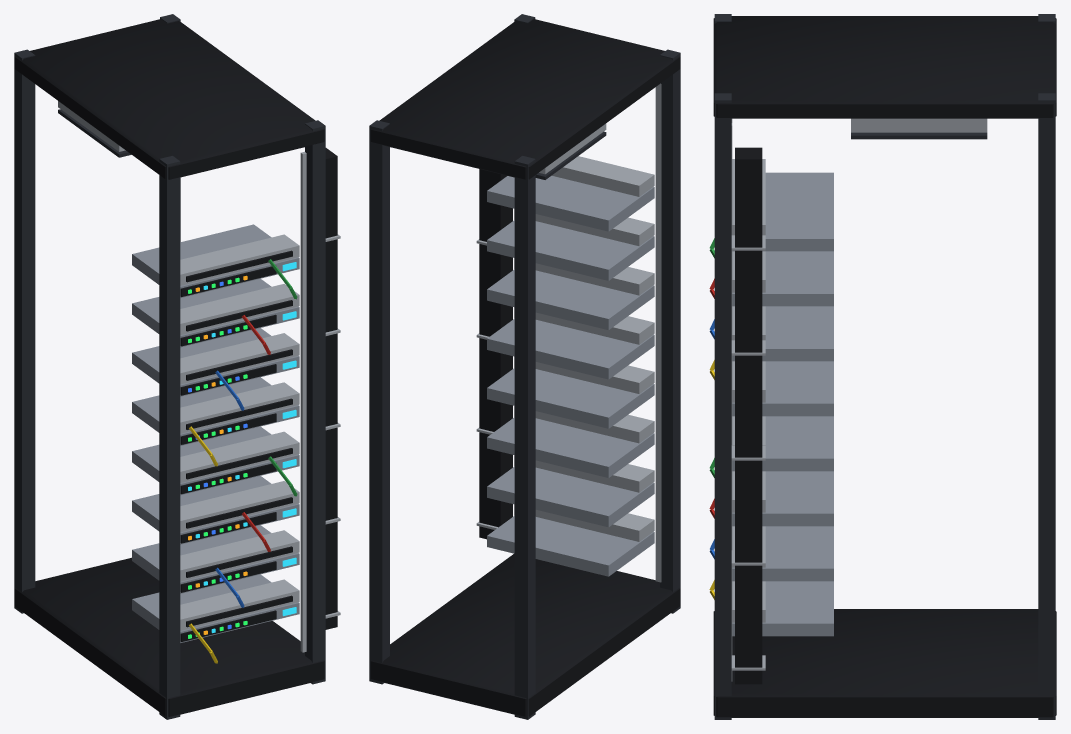
Rendered from rack_network_switch_rack.glb.
3 renders of one model, left to right at view 1: azimuth 30°, elevation 25°; view 2: azimuth 150°, elevation 25°; view 3: azimuth 270°, elevation 25°, orthographic. The views are drawn at different scales.
Parts seen in each view (by area): view 1: rack_network_switch_rack; view 2: rack_network_switch_rack; view 3: rack_network_switch_rack.
Boxes of the visible parts, <box> form: rack_network_switch_rack: <box>14,14,340,719</box>; rack_network_switch_rack: <box>369,14,680,719</box>; rack_network_switch_rack: <box>709,14,1056,719</box>.
Size of the model in its own units: 0.688 by 2.01 by 1.02.
